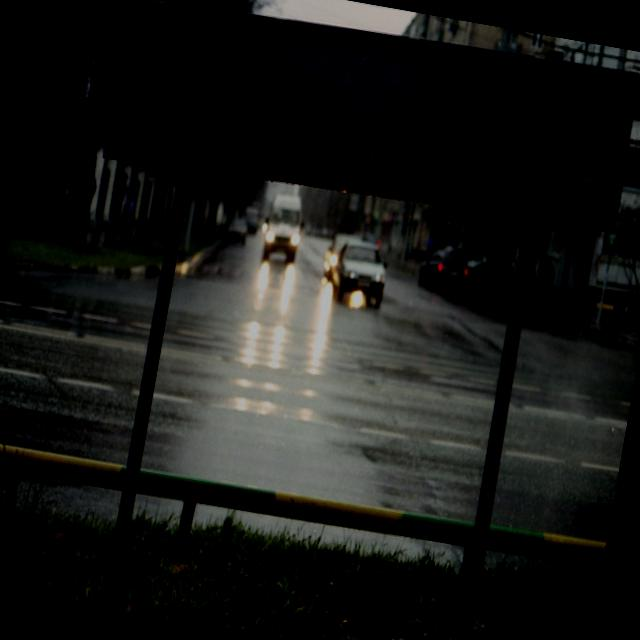Vehicle: (328, 237, 389, 306), (256, 190, 309, 266), (256, 192, 306, 265), (418, 244, 472, 298), (466, 252, 518, 282), (223, 215, 249, 247), (240, 207, 261, 234)
